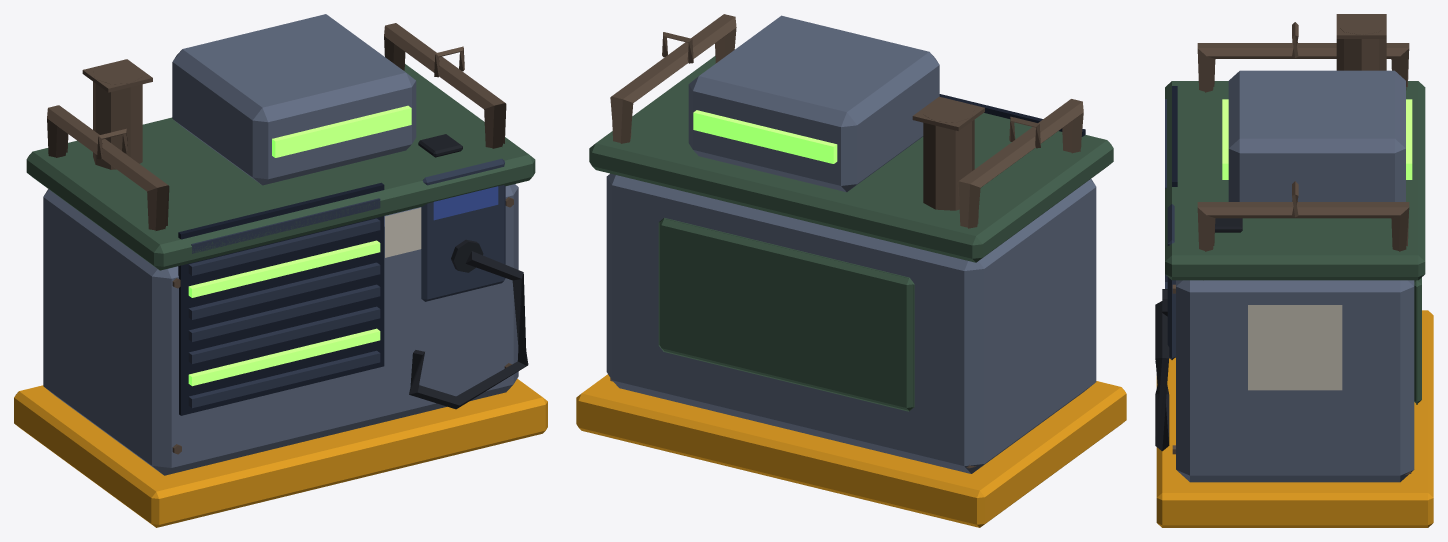
File: city_generator.glb
3 views of the same model, side by side, from view 1: azimuth 30°, elevation 25°; view 2: azimuth 150°, elevation 25°; view 3: azimuth 270°, elevation 25° (orthographic). The views are drawn at different scales.
Parts seen in each view (by area): view 1: housing, top_cover, skid, grille_recess, bolt_0, control_panel, louvre.001, exhaust, power_cable, louvre.005, louvre.006, louvre.002 (+9 smaller); view 2: housing, top_cover, skid, bolt_0, exhaust, louvre.001, exhaust_cap; view 3: housing, top_cover, skid, stencil, bolt_0, exhaust, power_cable, louvre.001, control_panel, grille_recess, exhaust_cap, fuel_cap.
Boxes of the visible parts, x1,y1,x2,y2 form: housing: [43, 14, 518, 475]; top_cover: [26, 64, 535, 270]; skid: [14, 379, 547, 527]; grille_recess: [178, 182, 384, 415]; bolt_0: [47, 23, 506, 454]; control_panel: [421, 158, 505, 301]; louvre.001: [188, 105, 411, 386]; exhaust: [93, 63, 142, 169]; power_cable: [409, 251, 528, 409]; louvre.005: [188, 240, 380, 297]; louvre.006: [188, 218, 380, 275]; louvre.002: [188, 306, 380, 363]; housing: [606, 15, 1096, 473]; top_cover: [589, 56, 1113, 411]; skid: [576, 374, 1126, 527]; bolt_0: [610, 14, 1083, 468]; exhaust: [923, 101, 974, 210]; louvre.001: [693, 110, 837, 163]; exhaust_cap: [912, 96, 984, 130]; housing: [1176, 70, 1414, 482]; top_cover: [1165, 81, 1425, 404]; skid: [1156, 310, 1433, 527]; stencil: [1248, 305, 1342, 390]; bolt_0: [1197, 43, 1411, 475]; exhaust: [1336, 14, 1386, 70]; power_cable: [1155, 301, 1169, 451]; louvre.001: [1222, 99, 1412, 179]; control_panel: [1167, 204, 1175, 359]; grille_recess: [1172, 86, 1177, 357]; exhaust_cap: [1336, 14, 1386, 38]; fuel_cap: [1215, 218, 1242, 232].
Bounding box in the file's own units: 1.6 × 1.4 × 1.
